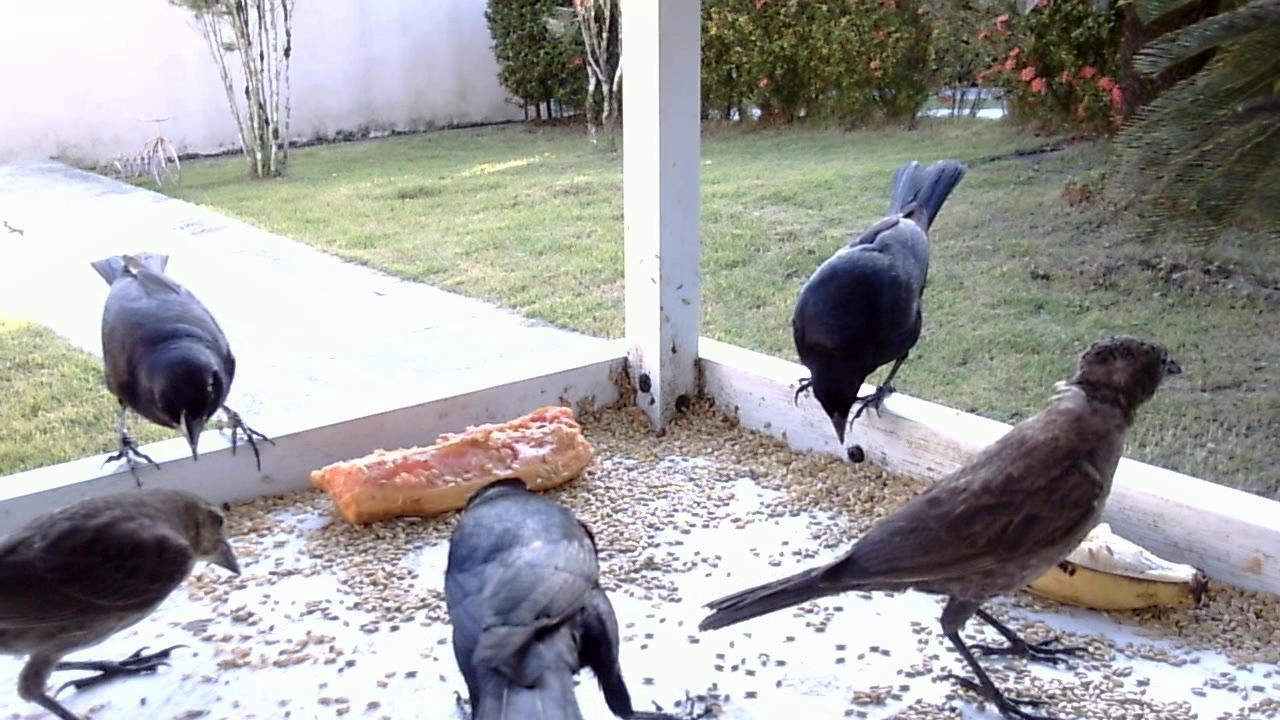chupim: (692, 335, 1174, 716), (781, 152, 977, 463), (3, 478, 249, 720), (433, 471, 662, 720), (78, 247, 280, 486)
